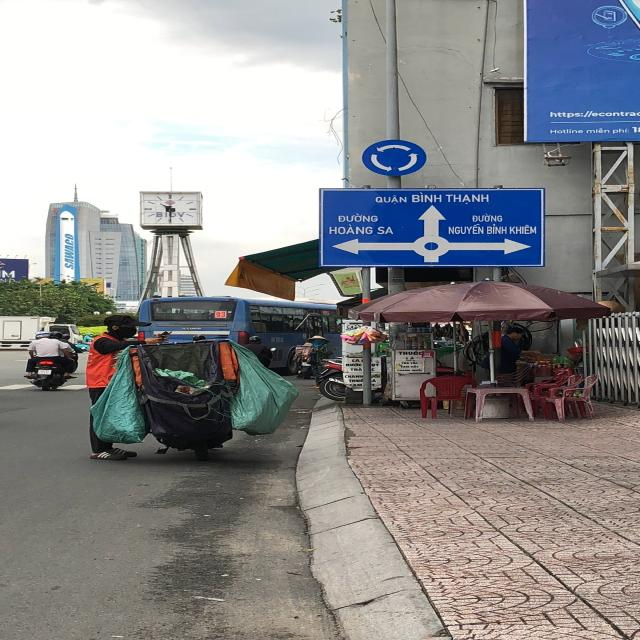Bien bao noi giao nhau chay theo vong xuyen: (358, 136, 432, 180)
